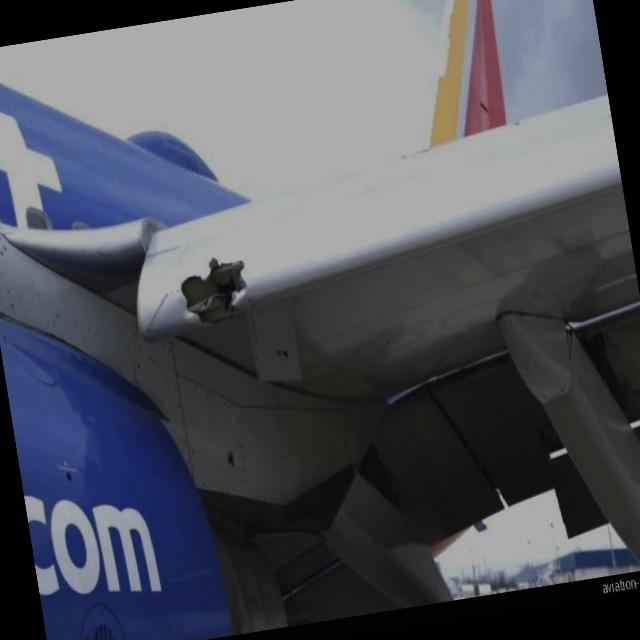crack: (169, 250, 257, 333)
